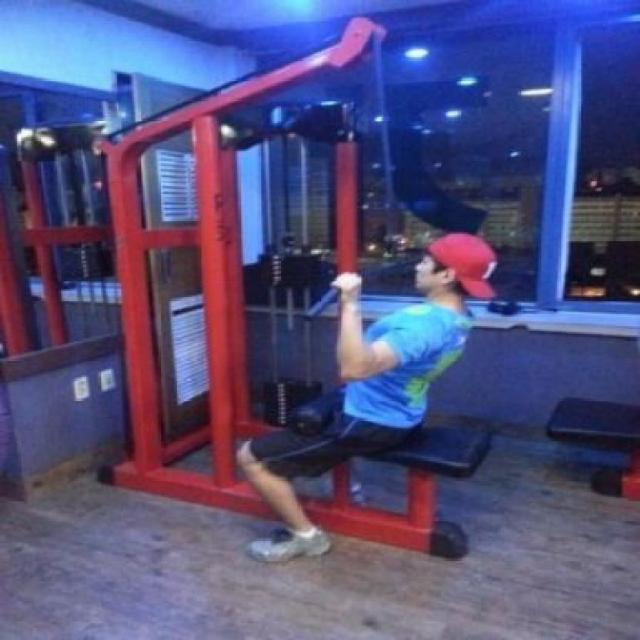Lat Pull Down: (0, 0, 520, 565)
